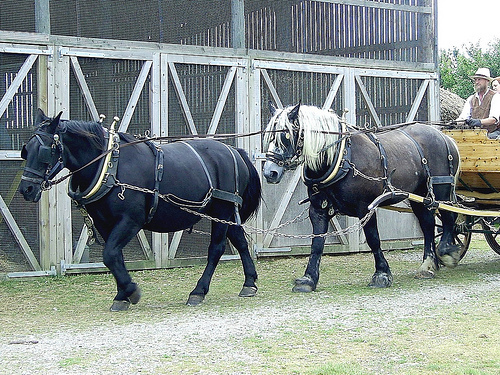horse: (17, 108, 263, 312), (262, 101, 463, 291)
